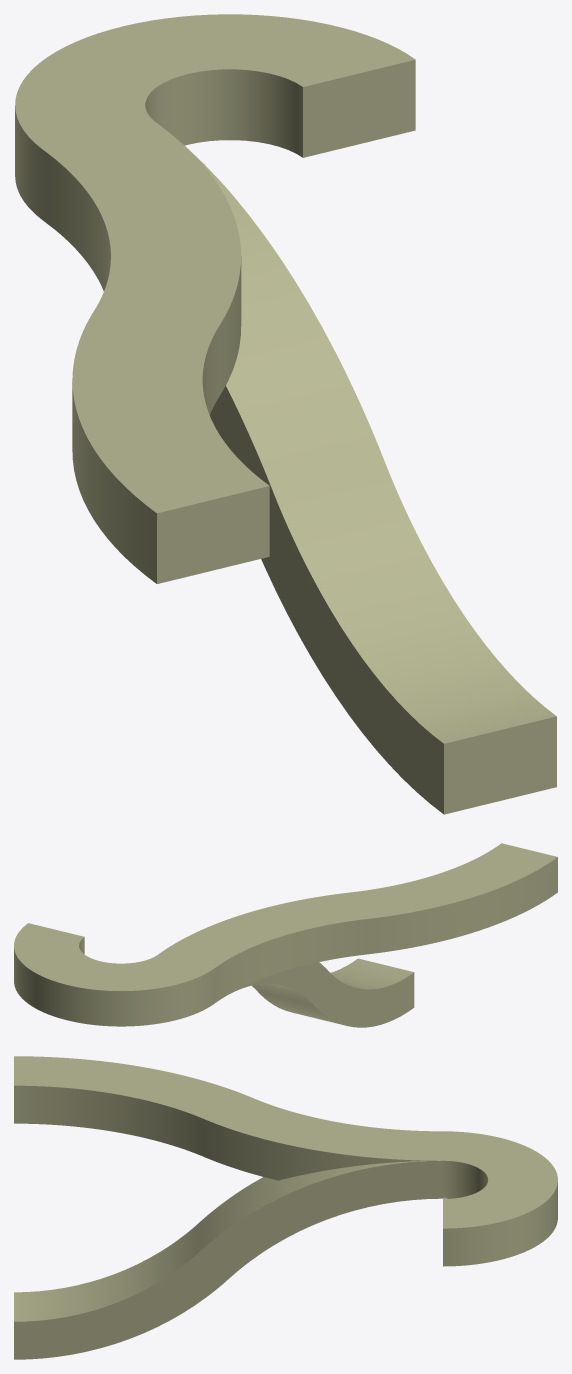
Rendered from model_08_hover.glb.
3 renders of one model, top to bottom at view 1: azimuth 30°, elevation 25°; view 2: azimuth 150°, elevation 25°; view 3: azimuth 270°, elevation 25°, orthographic. The views are drawn at different scales.
Size of the model in its own units: 178 by 95.91 by 238.
